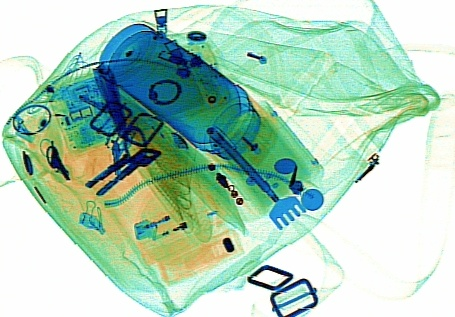lighter: (130, 193, 217, 244)
